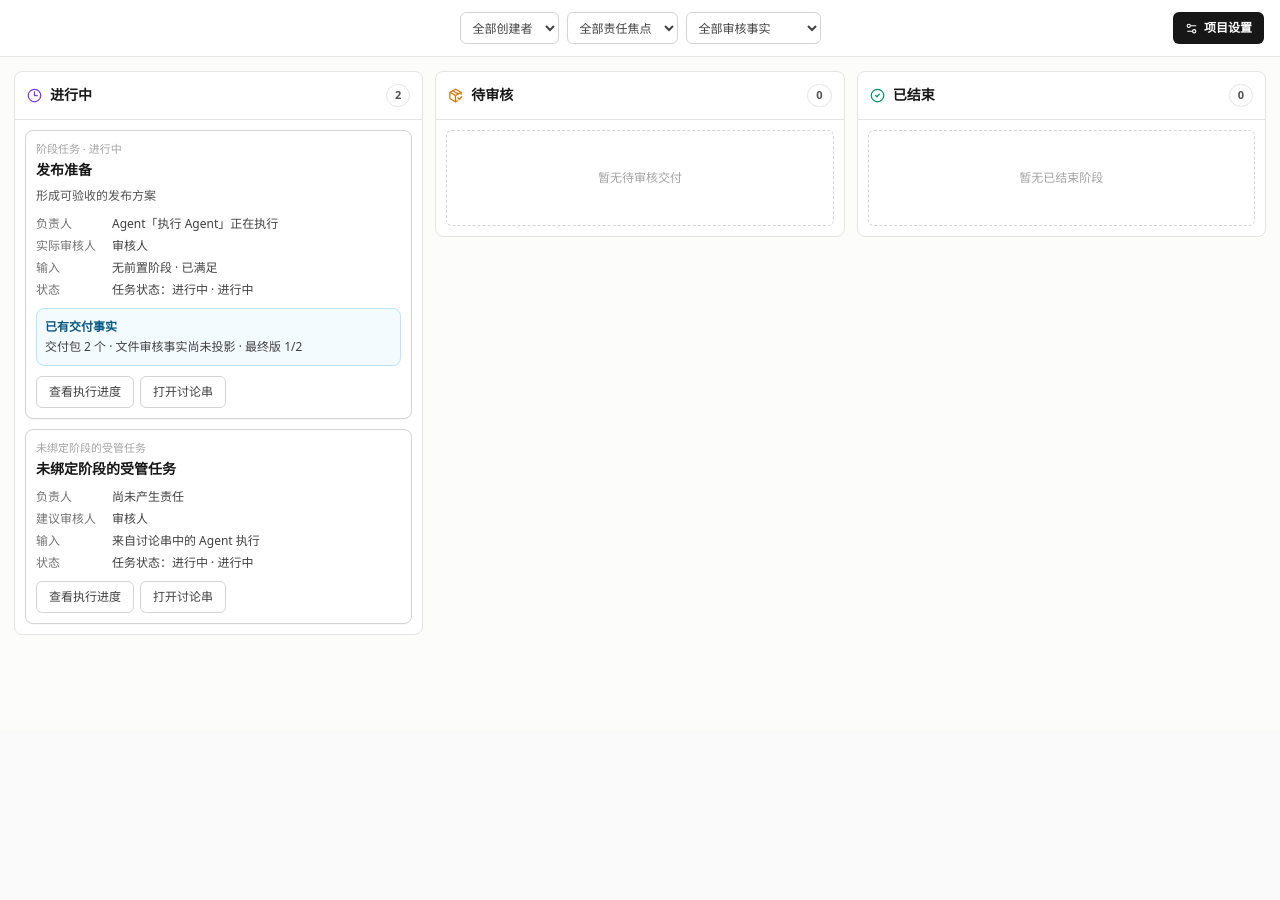
Test: 频道项目推进工作区 › 支持创建者、责任焦点、建议/实际审核人与待我审核筛选
The width and height of the screenshot is (1280, 900).
Select "另一创建者" in the dropdown named "项目任务创建者" at (509, 28), box [460,12,558,44]
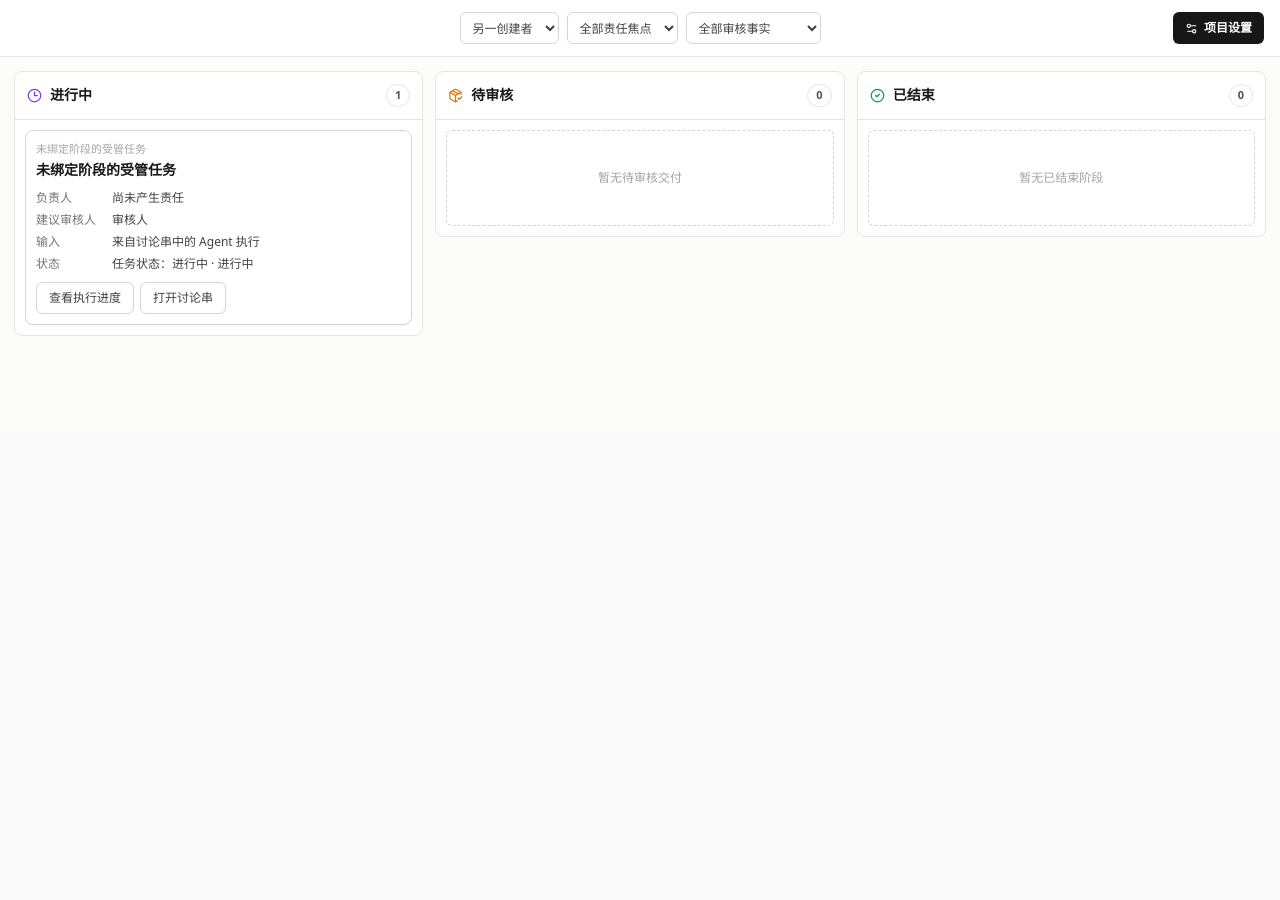
Expected: the heading "发布准备" no longer shows "发布准备"
Select "全部创建者" in the dropdown named "项目任务创建者" at (509, 28), box [460,12,558,44]
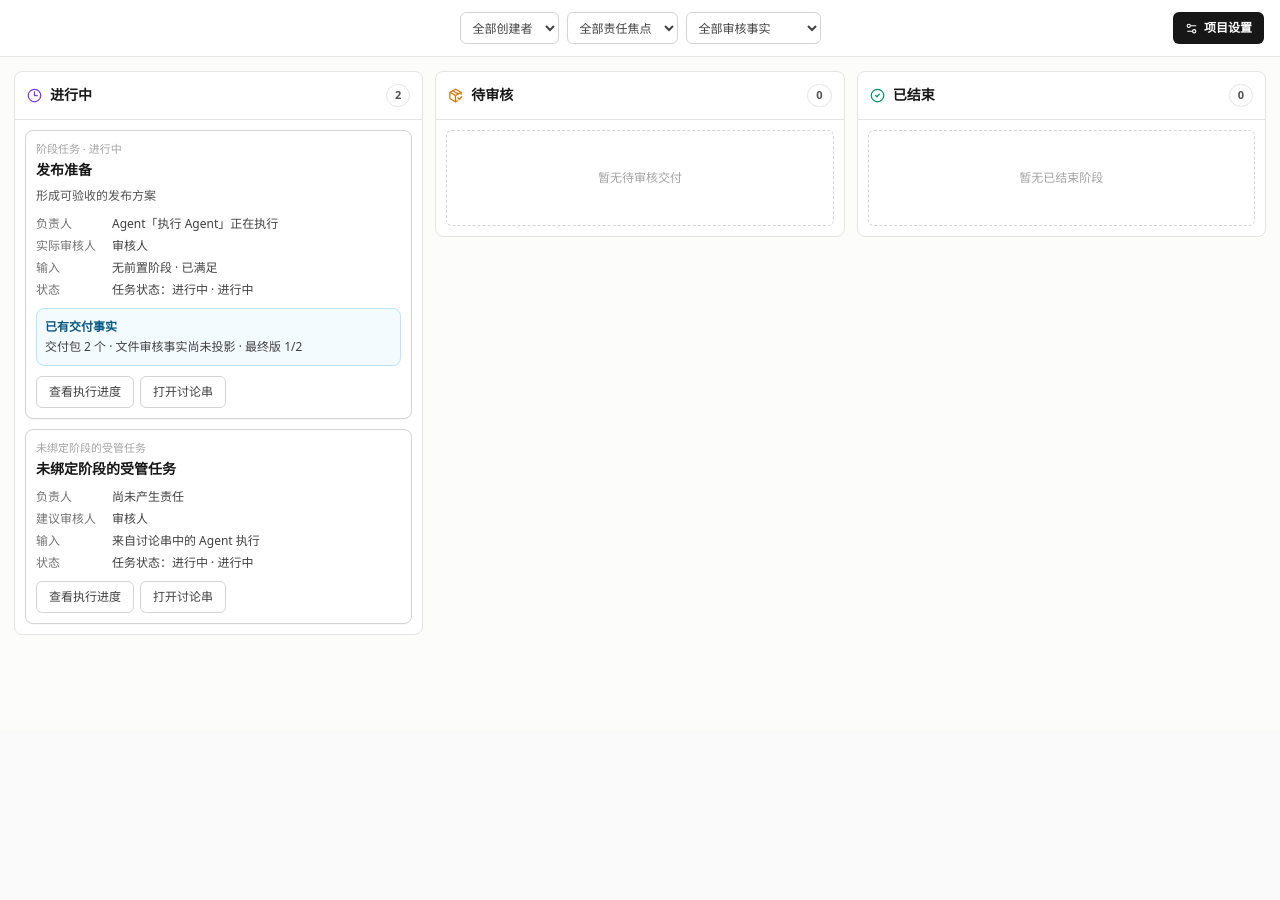
Expected: the element that starts with "进行中" shows "发布准备", [36,160,92,179]
Select "执行 Agent" in the dropdown named "项目任务责任焦点" at (622, 28), box [566,12,678,44]
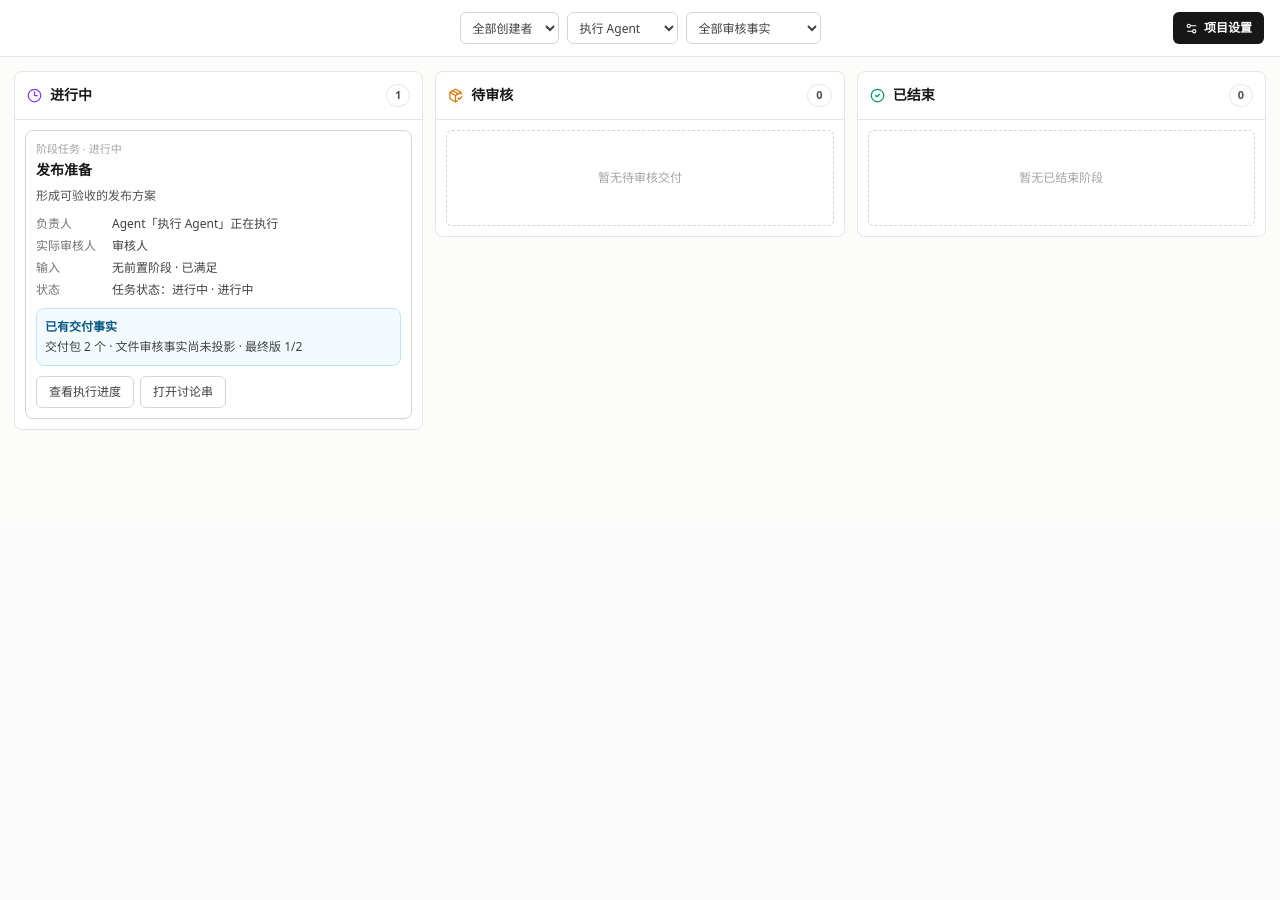
Expected: the element that starts with "进行中" shows "发布准备", [36,160,92,179]
Select "实际：审核人" in the dropdown named "项目任务审核人" at (753, 28), box [686,12,820,44]
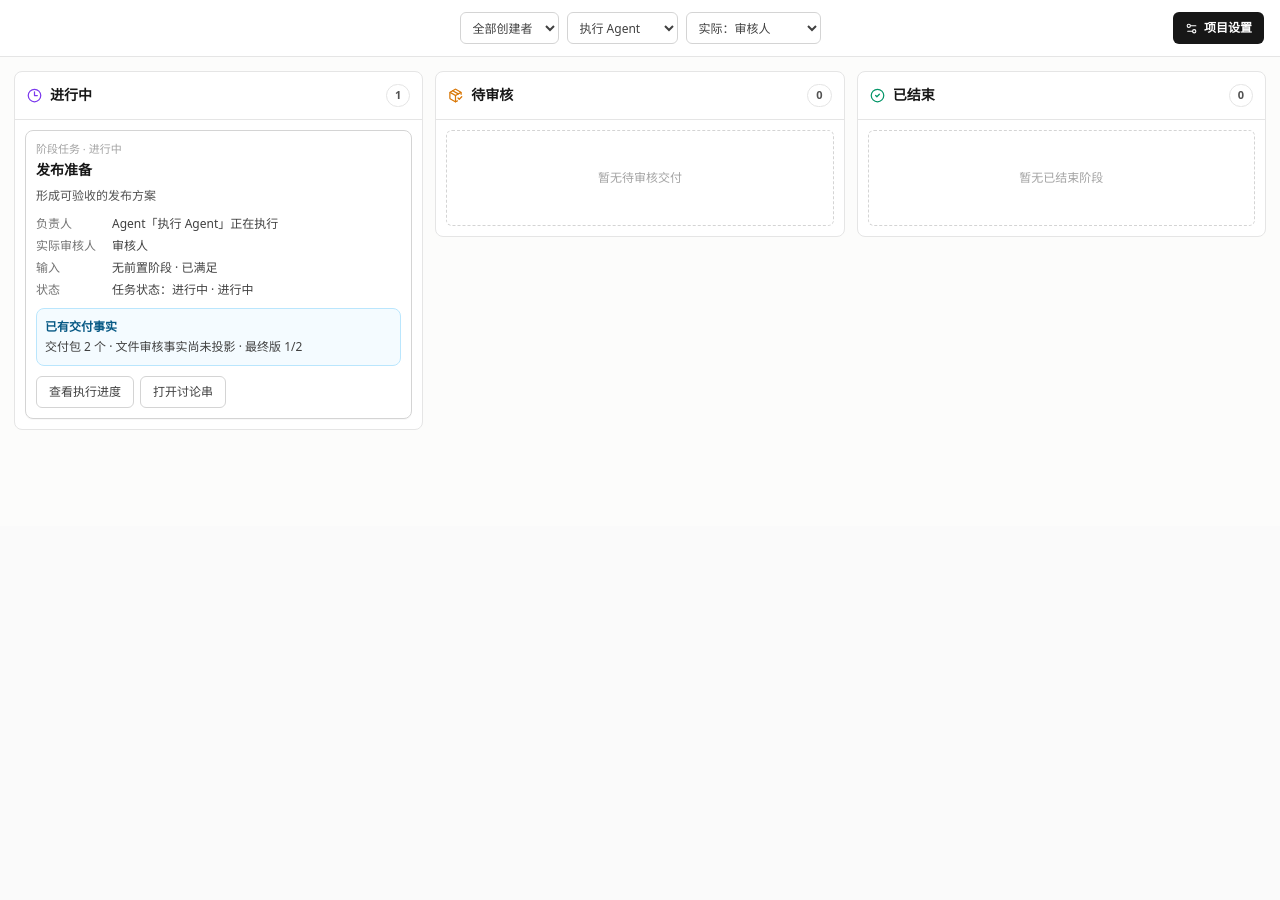
Expected: the element that starts with "进行中" shows "发布准备", [36,160,92,179]
Select "待我审核" in the dropdown named "项目任务审核人" at (753, 28), box [686,12,820,44]
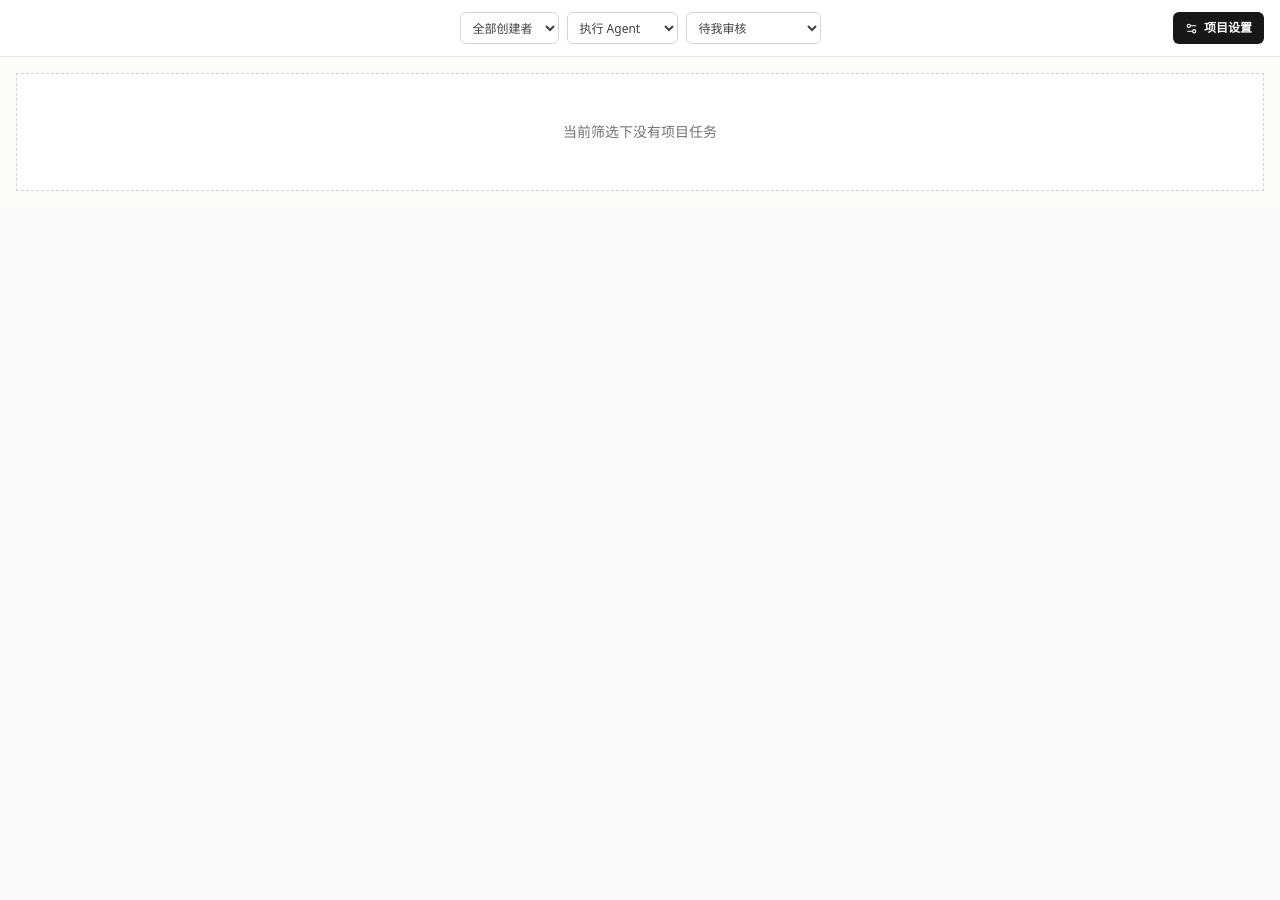
Expected: the text "当前筛选下没有项目任务" is shown, [16,73,1264,191]
